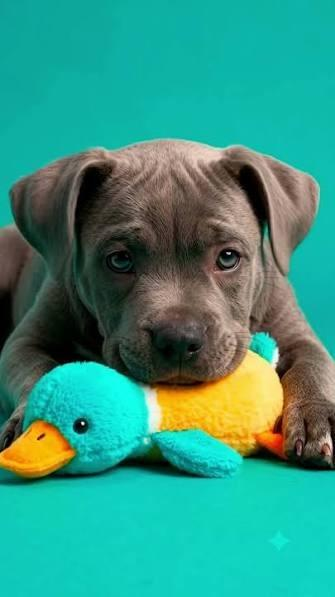puppy-dog: (0, 136, 335, 470)
